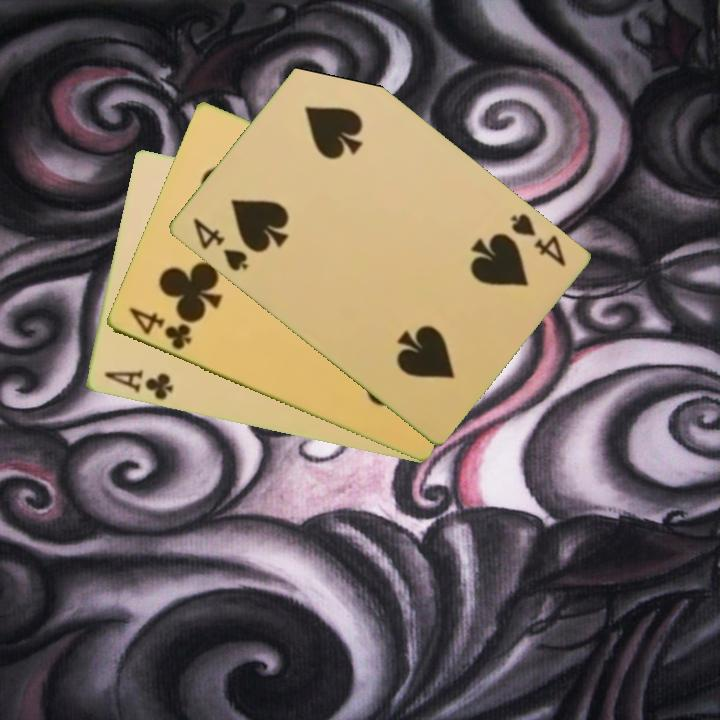4c: (124, 304, 194, 353)
4s: (188, 214, 251, 274), (505, 210, 568, 270)
Ac: (100, 366, 176, 403)
